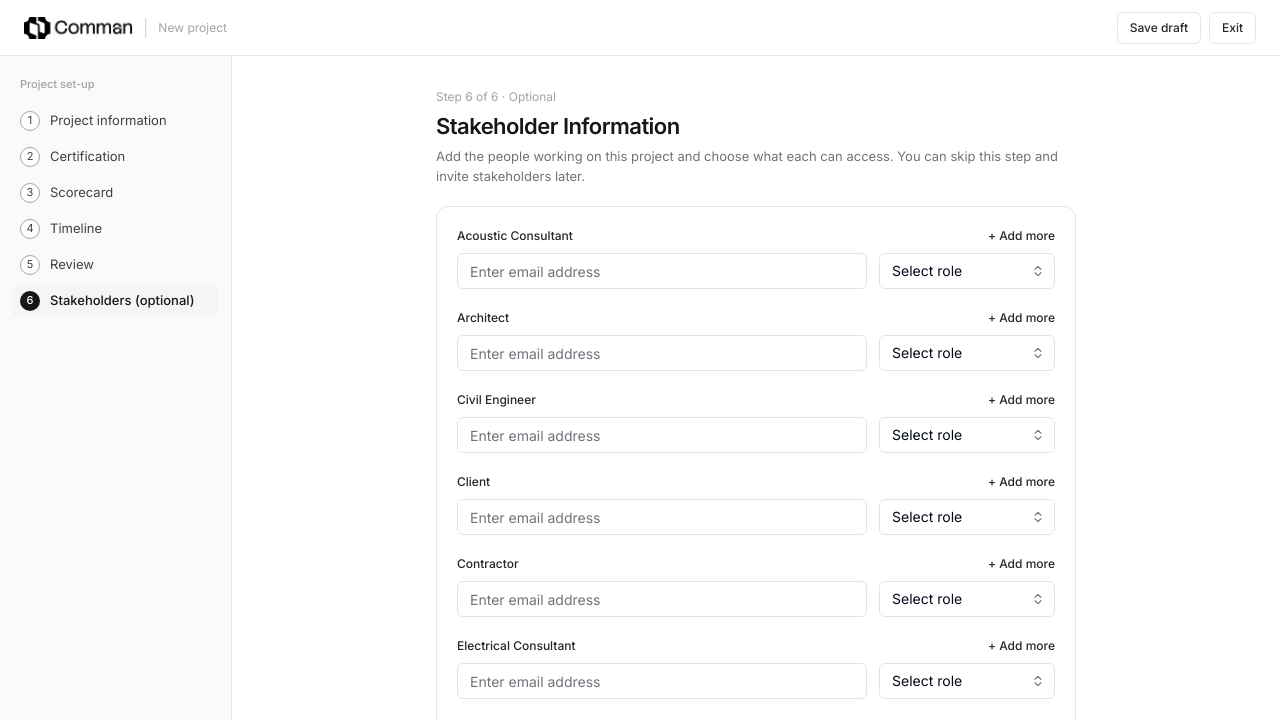
it: NewProjectPage › validates emails and can add or remove extra rows in a category
In the field with test id "stakeholder-email-architect-0": (662, 353) x1=457 y1=335 x2=867 y2=371, type "not-valid"
(page scrolled)
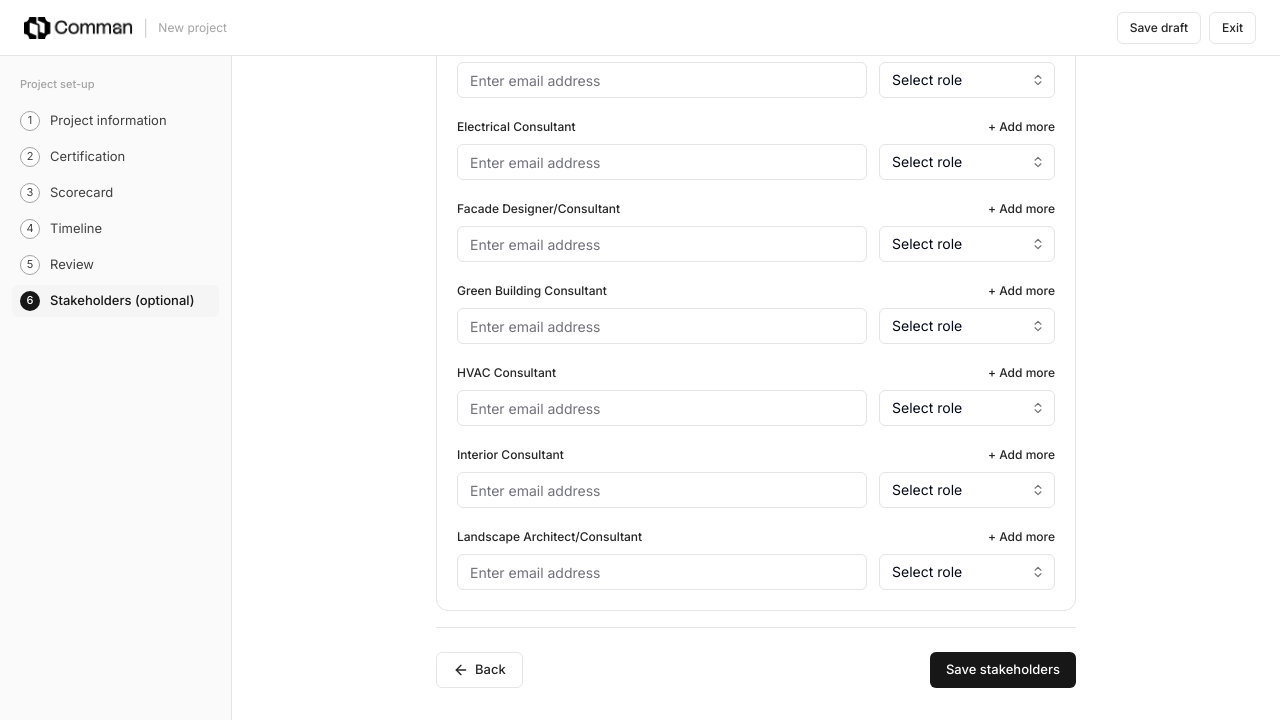
Click the button "Save stakeholders": (1003, 670) x1=930 y1=652 x2=1076 y2=688
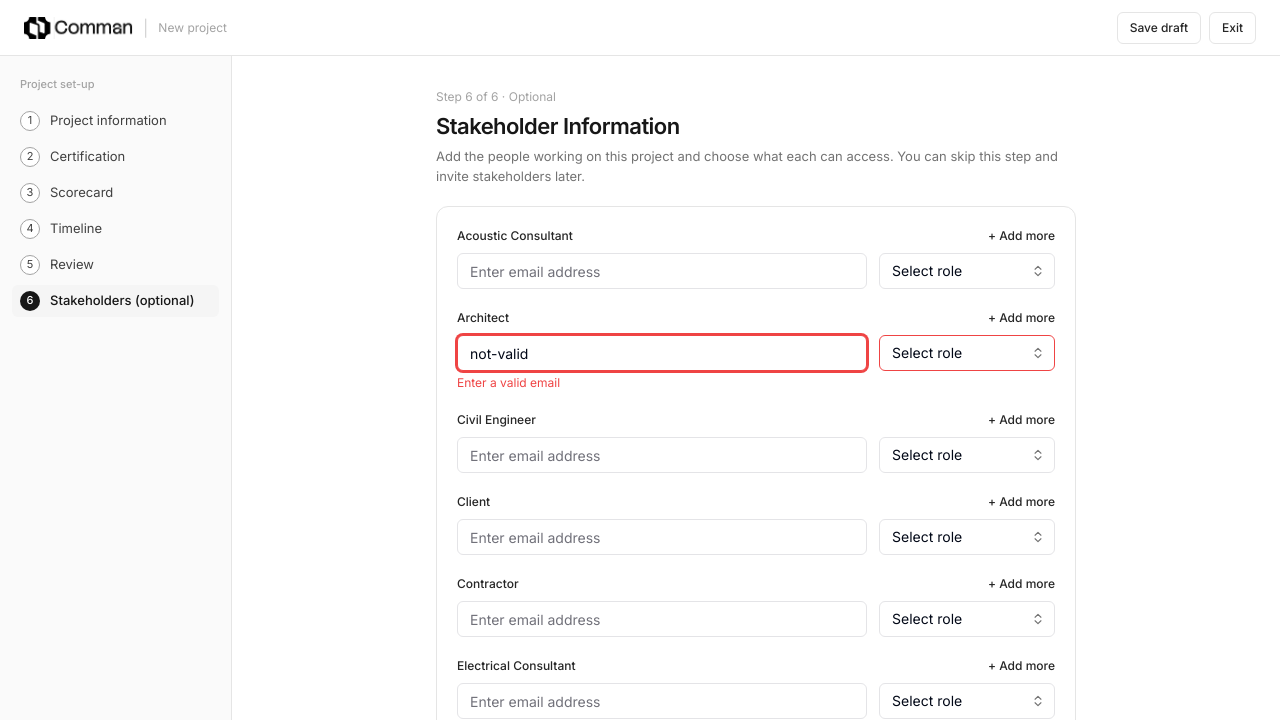
Check: the text "Enter a valid email" is shown, box x1=457 y1=375 x2=560 y2=390
Click the button with test id "add-more-architect": (1022, 318) x1=988 y1=309 x2=1055 y2=327
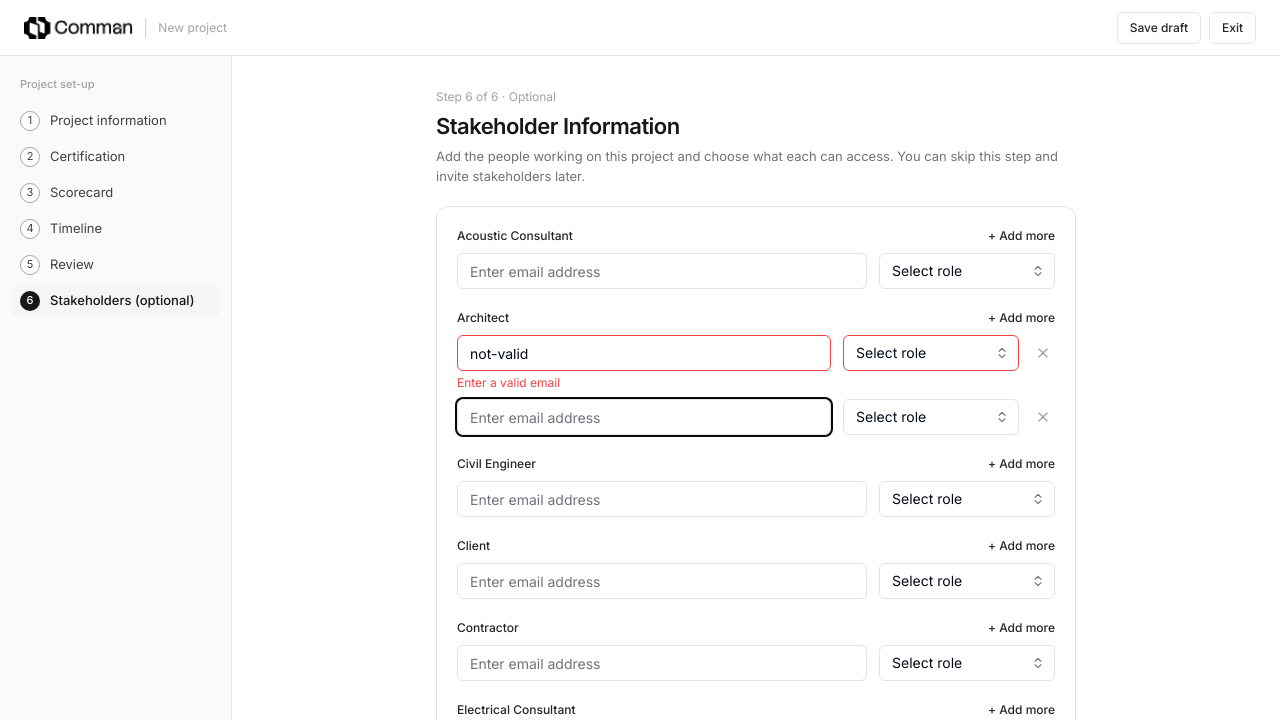
Check: the field with test id "stakeholder-email-architect-1" is shown, box x1=457 y1=399 x2=831 y2=435
Click the button named "remove architect 2": (1043, 417) x1=1031 y1=405 x2=1055 y2=429
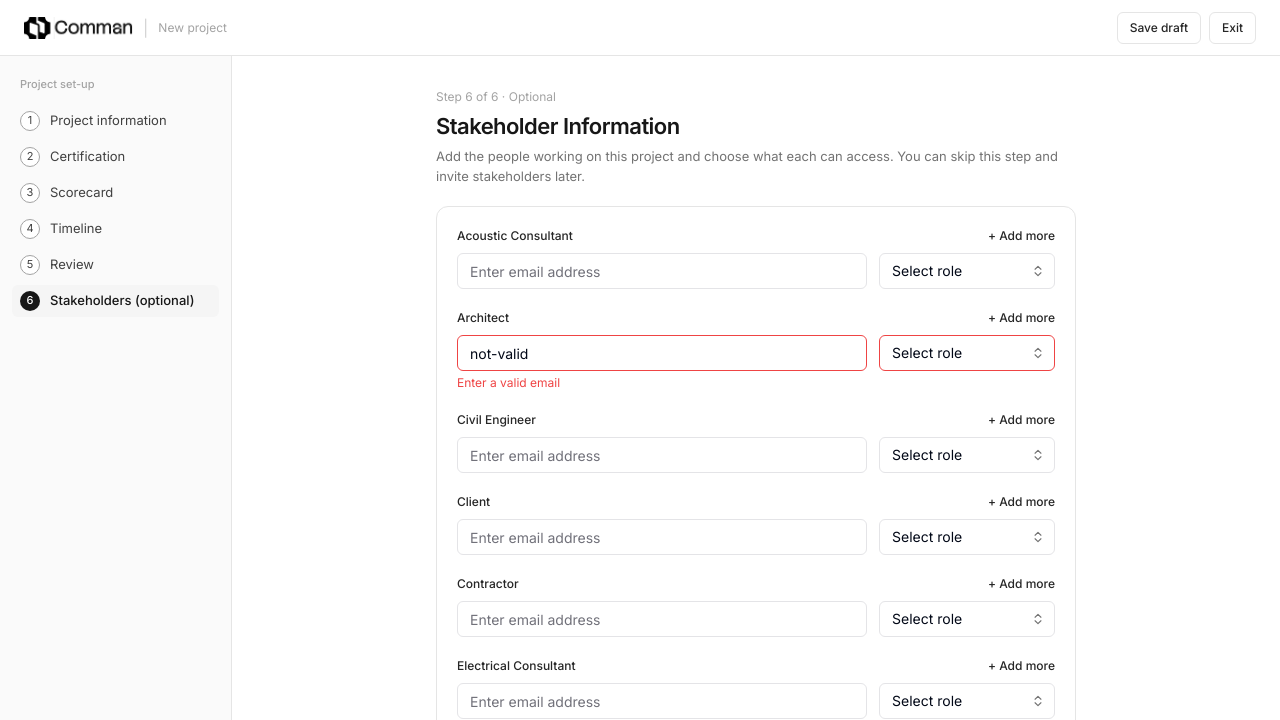
Check: the field with test id "stakeholder-email-architect-1" is gone
